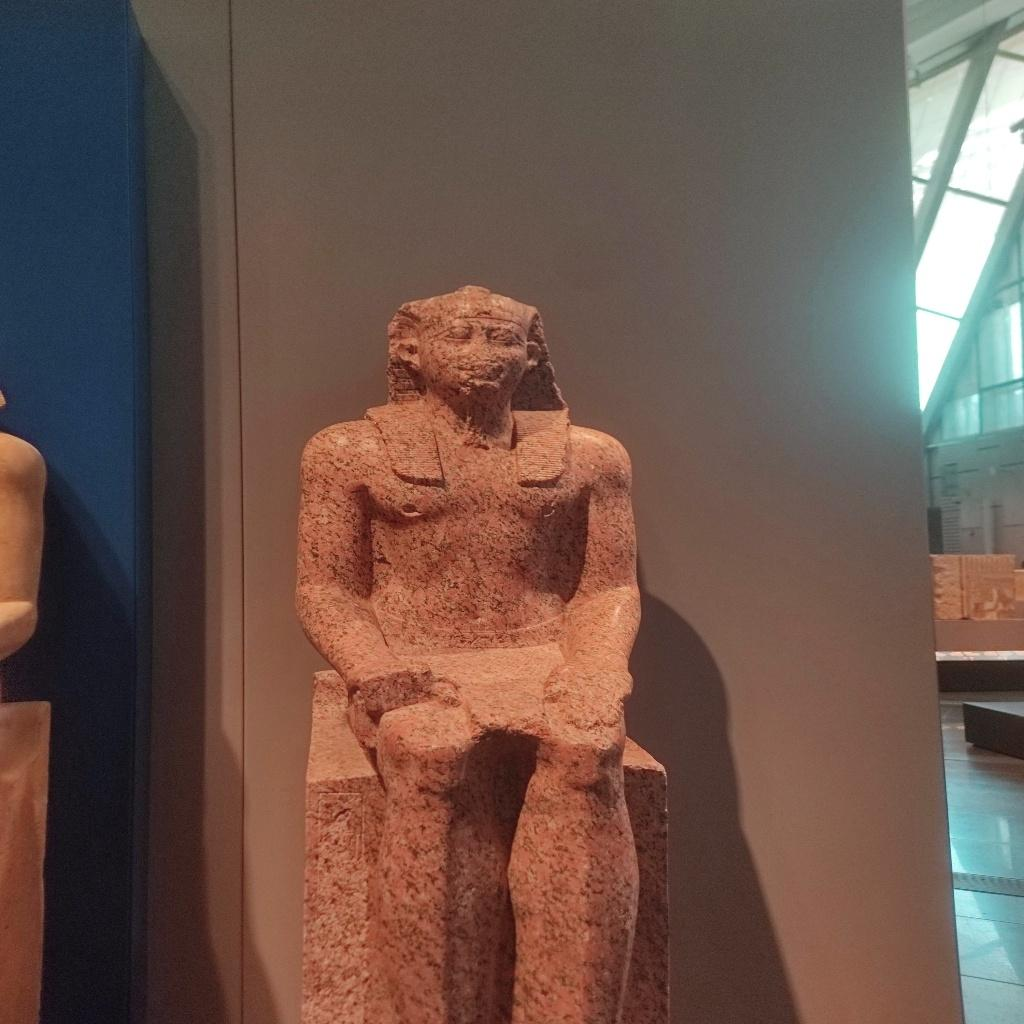Statue of Amenmhat I: (287, 282, 674, 1024)
